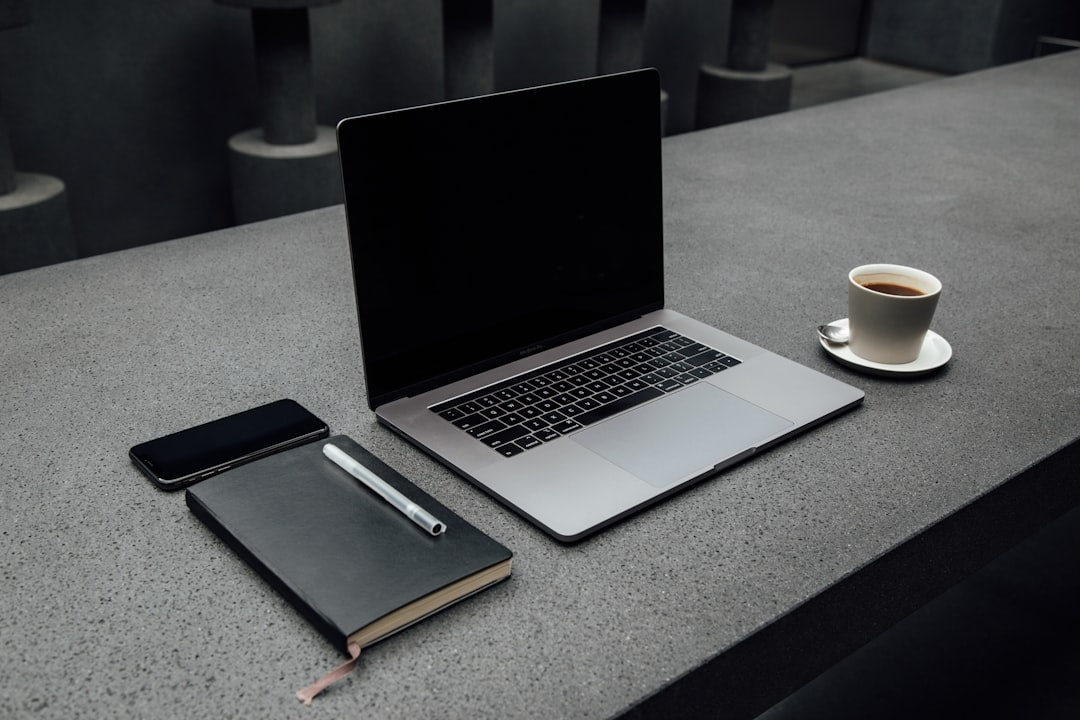laptop: (302, 63, 880, 560)
